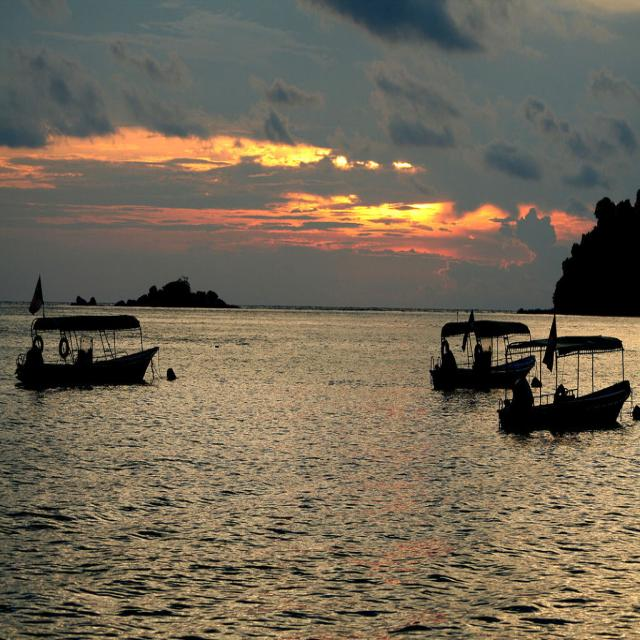Boat: (484, 319, 636, 437), (11, 312, 160, 388), (424, 303, 540, 383)
